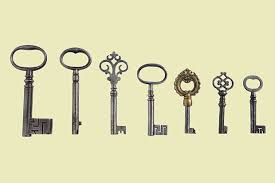kicharina: (7, 41, 53, 155), (58, 45, 93, 137), (135, 62, 171, 141), (97, 50, 129, 137), (173, 66, 202, 135), (241, 74, 267, 137), (211, 71, 235, 136)
